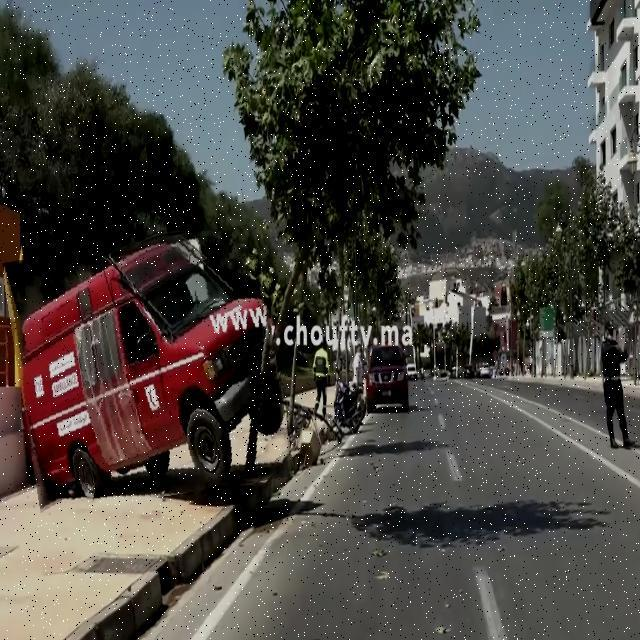ambulance: (10, 232, 285, 508)
